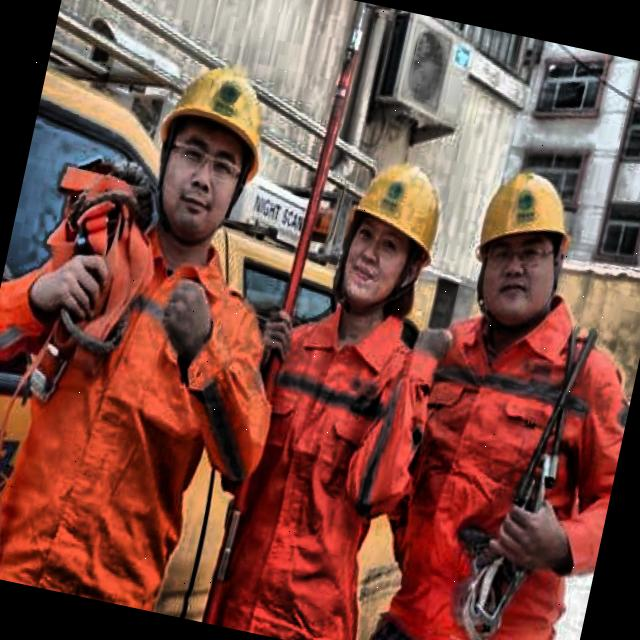helmet: (130, 40, 290, 264), (446, 138, 600, 351), (318, 135, 464, 335)
